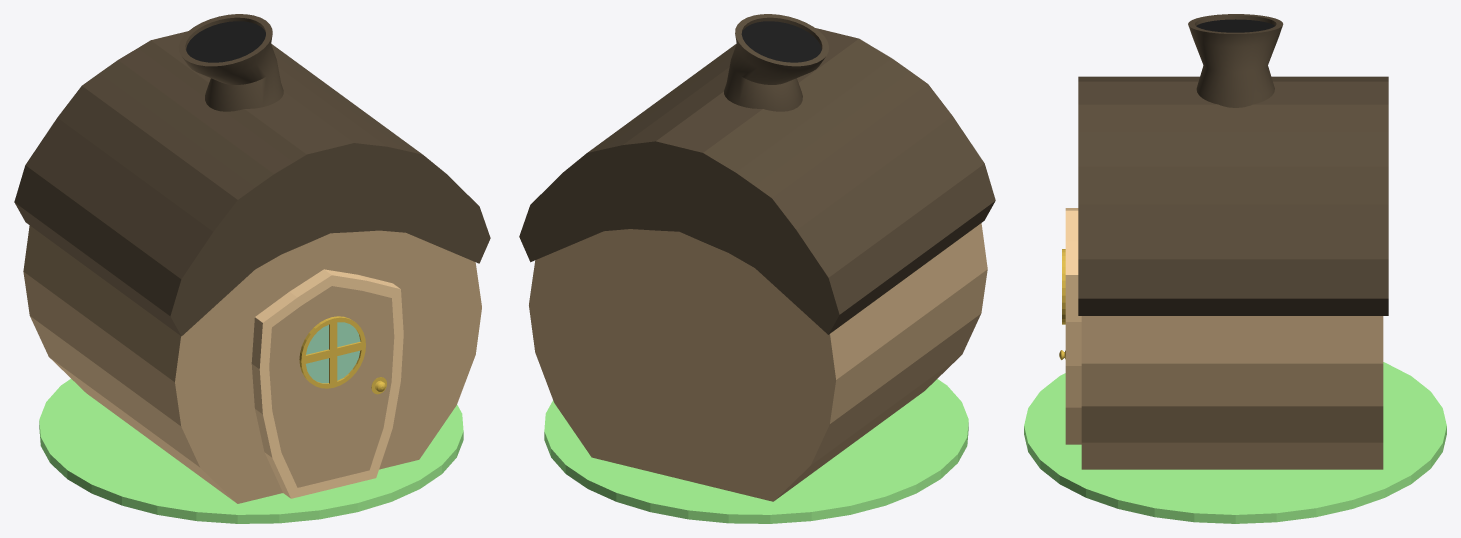
The model's file is AcornHouse.fbx.
The picture shows the model from 3 angles, left to right: view 1: azimuth 30°, elevation 25°; view 2: azimuth 150°, elevation 25°; view 3: azimuth 270°, elevation 25°; orthographic projection.
Parts seen in each view (by area): view 1: Cube, Cube.001, Circle, Cylinder; view 2: Cube, Cube.001, Circle, Cylinder; view 3: Cube.001, Cube, Circle, Cylinder.
Boxes of the visible parts, x1,y1,x2,y2 form: Cube: (23,225,481,503); Cube.001: (14,31,490,336); Circle: (39,379,463,523); Cylinder: (178,14,283,111); Cube: (529,223,987,501); Cube.001: (519,28,995,334); Circle: (544,379,968,523); Cylinder: (724,14,828,111); Cube.001: (1078,76,1388,315); Cube: (1059,208,1383,469); Circle: (1024,362,1446,523); Cylinder: (1188,14,1283,107).
Size of the model in its own units: 744 by 792 by 744.
